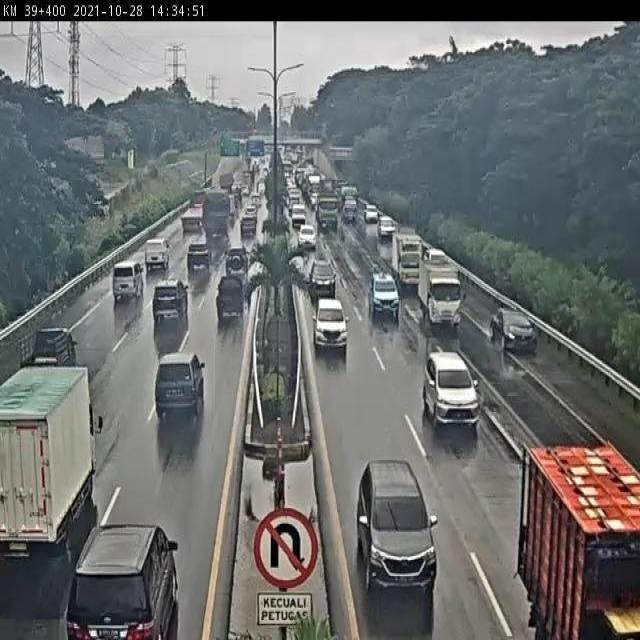Car: (356, 460, 441, 600), (423, 351, 480, 429), (20, 327, 78, 368), (490, 307, 536, 351), (310, 299, 351, 347), (151, 280, 189, 320), (368, 270, 399, 314), (308, 260, 337, 301), (224, 247, 250, 274), (188, 244, 210, 269), (297, 226, 316, 250), (291, 204, 308, 228), (377, 216, 396, 236), (239, 217, 258, 236), (364, 205, 379, 223)
Truck: (516, 441, 639, 640), (0, 362, 106, 564), (418, 258, 468, 325), (391, 231, 422, 286), (216, 277, 245, 322), (181, 190, 208, 230), (202, 192, 230, 230), (315, 194, 338, 230)
Van: (153, 354, 207, 415), (113, 262, 144, 302), (146, 238, 168, 273)
